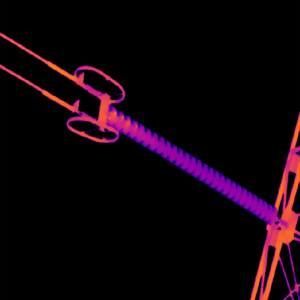insulator: (107, 103, 277, 225)
